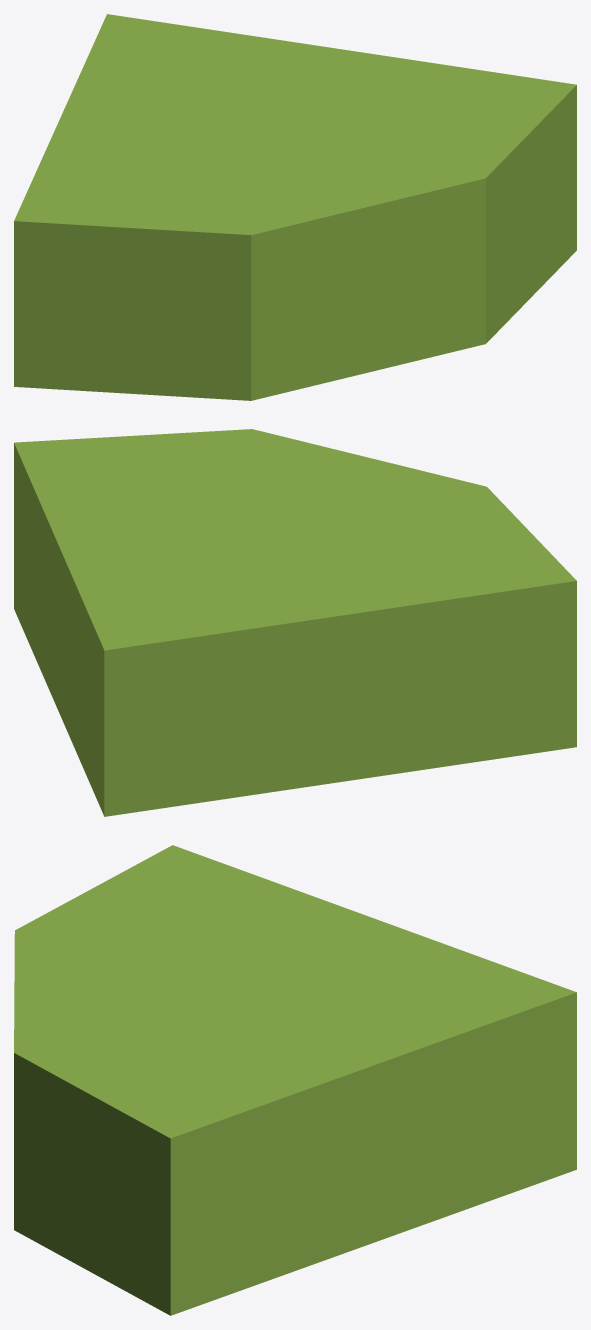
Rendered from SM_Shape_Diamond__01.fbx.
3 views of the same model, one above another, from view 1: azimuth 30°, elevation 25°; view 2: azimuth 150°, elevation 25°; view 3: azimuth 270°, elevation 25° (orthographic). The views are drawn at different scales.
Visible parts, largest first — view 1: SM_Shape_Diamond__01; view 2: SM_Shape_Diamond__01; view 3: SM_Shape_Diamond__01.
Part boxes in pixels (x1=…): SM_Shape_Diamond__01: x1=14, y1=14, x2=576, y2=400; SM_Shape_Diamond__01: x1=14, y1=429, x2=576, y2=816; SM_Shape_Diamond__01: x1=14, y1=845, x2=576, y2=1315.
Bounding box in the file's own units: 7.4 × 2.09 × 6.
